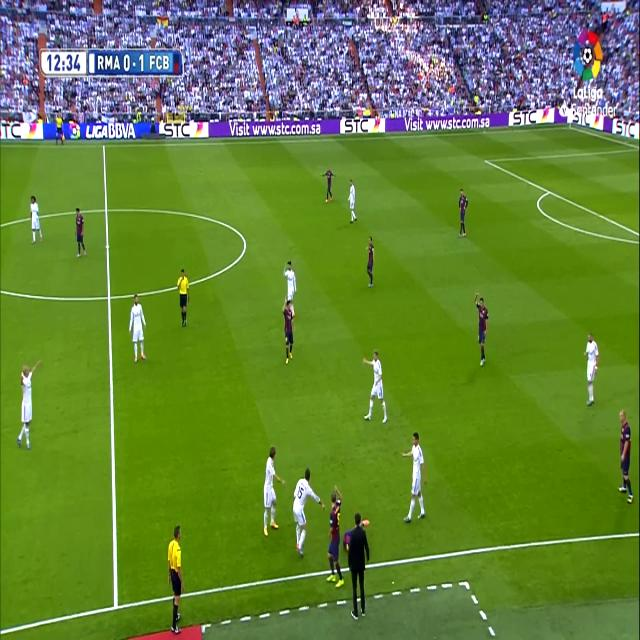halfcircle_bottom: (104, 286, 115, 308)
halfcircle_top: (102, 200, 110, 218)
midline_bottom_intersection: (109, 590, 123, 616)
midline_top_intersection: (101, 140, 107, 152)
top_arc_area_intersection: (545, 183, 553, 198)
